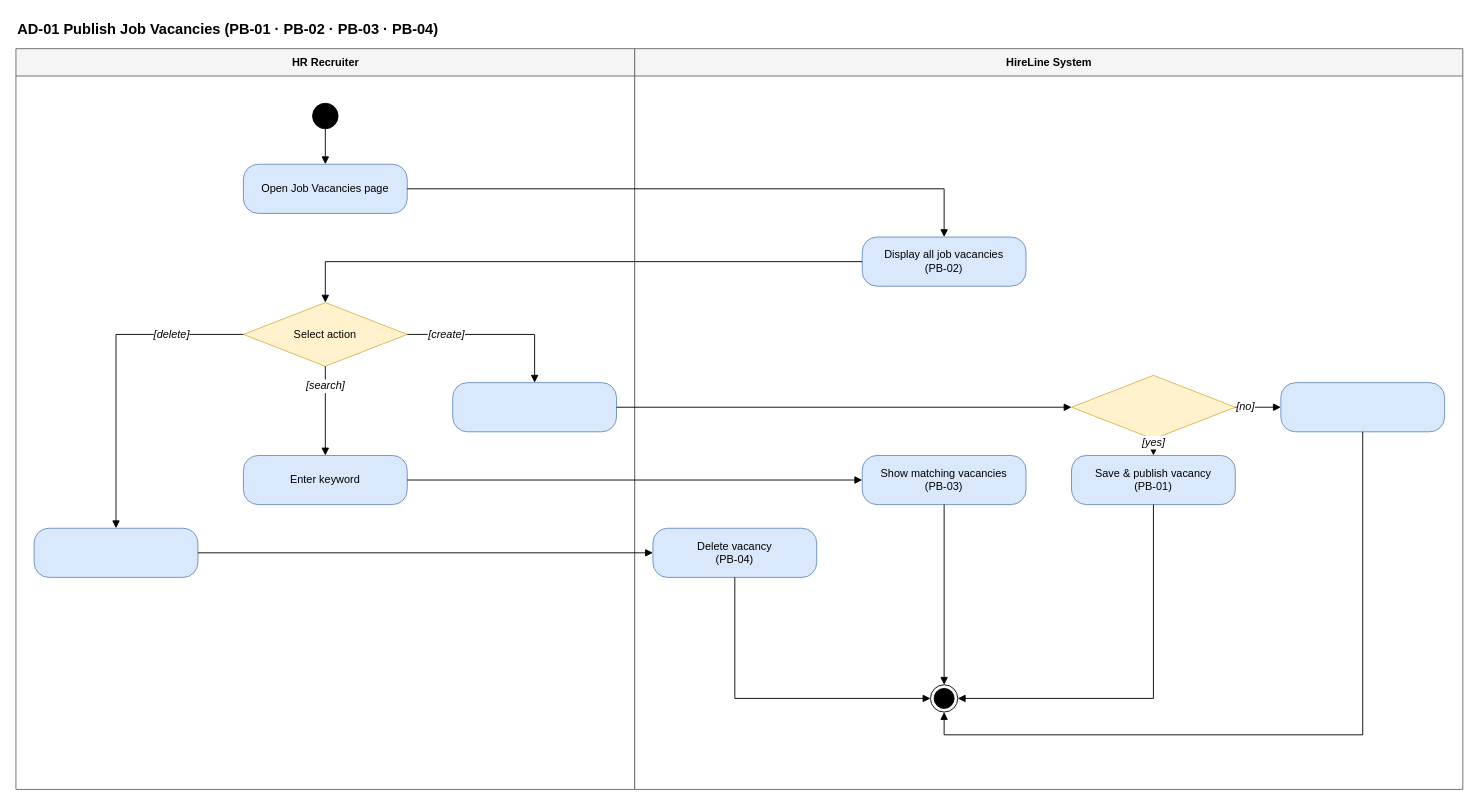
Image size: 1479x805. Some labels were removed from this diagram. The shapes that lost their labels are listed below. From the top down, each one's centre as x and y in pixels, then its label:
At point (534, 407): "Enter job details".
At point (1153, 406): "Required fields filled?".
At point (1362, 407): "Show error message".
At point (115, 552): "Select vacancy".
